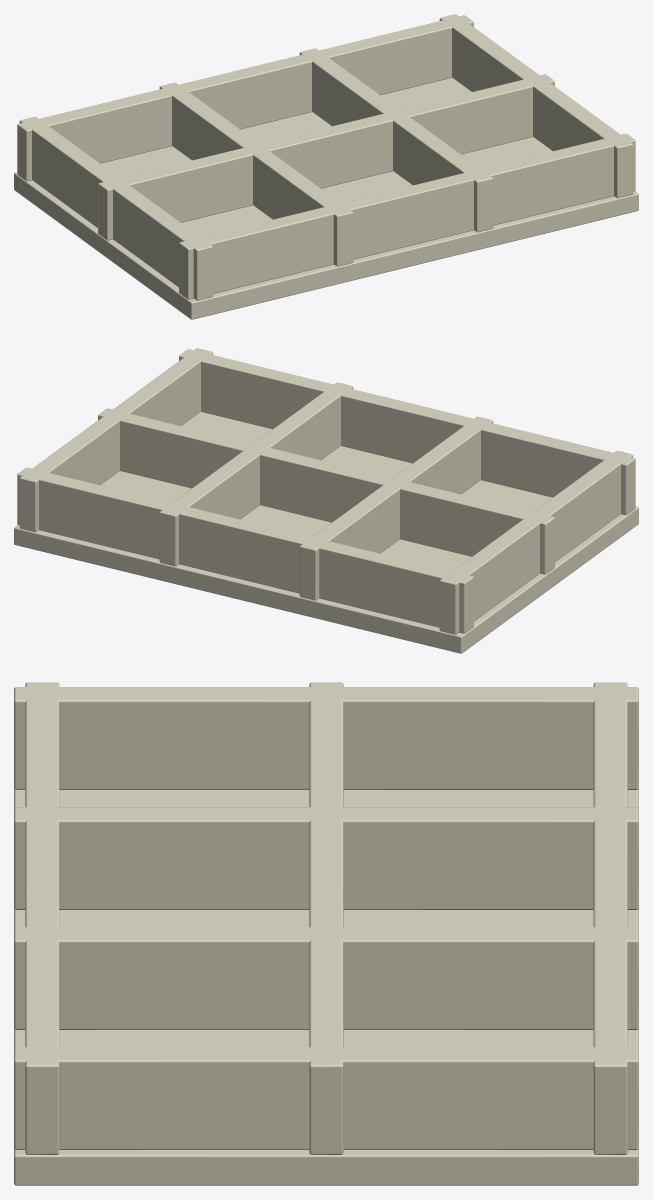
The model's file is research-and-crafting-progression-sample-tray-8e10682e__2859.glb.
3 views of the same model, one above another, from view 1: azimuth 30°, elevation 25°; view 2: azimuth 150°, elevation 25°; view 3: azimuth 270°, elevation 25° (orthographic). The views are drawn at different scales.
Parts seen in each view (by area): view 1: sample-tray; view 2: sample-tray; view 3: sample-tray.
Part boxes in pixels (x1,y1,x2,y2): sample-tray: (14, 14, 638, 319); sample-tray: (14, 348, 638, 653); sample-tray: (14, 682, 638, 1185).
Bounding box in the file's own units: 0.32 × 0.047 × 0.22.
